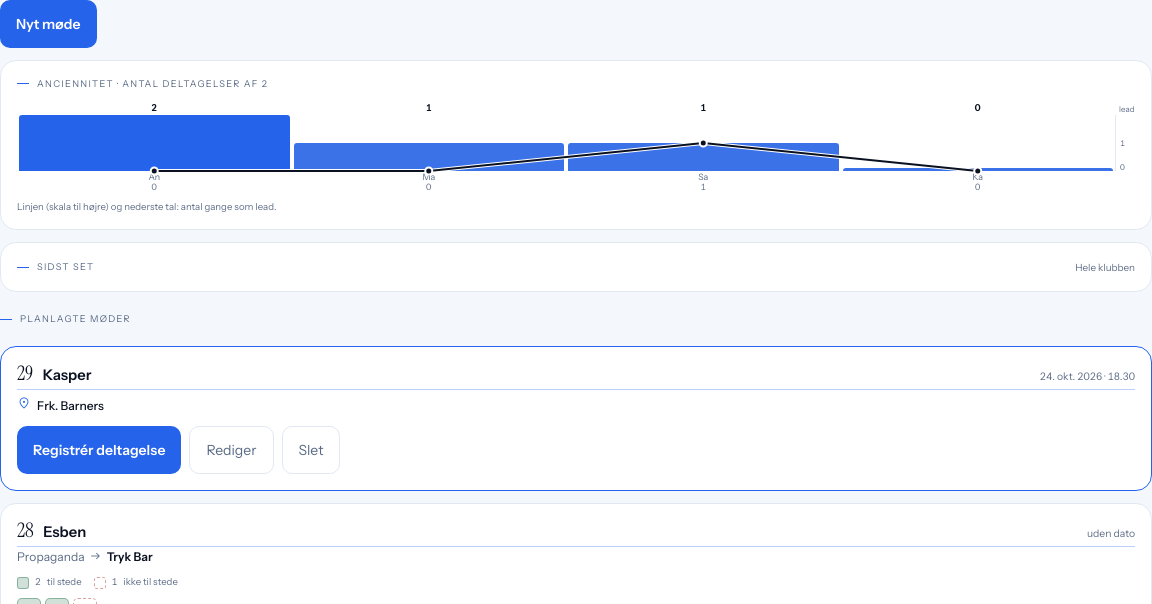
Test: the calendar and the fines, now that /moeder is gone › carries the lead onto the meeting instead of asking for it again
Click the button "Registrér deltagelse" at (99, 450), box [17, 426, 181, 474]
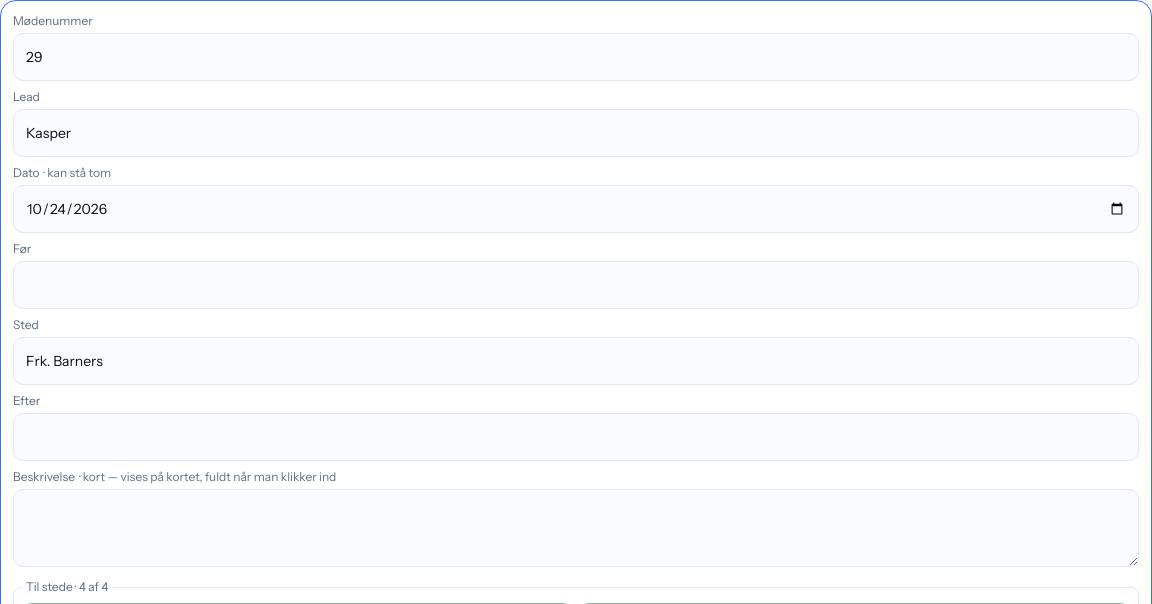
expect the field labelled "Lead" holds "Kasper": met, box [13, 109, 1139, 157]
